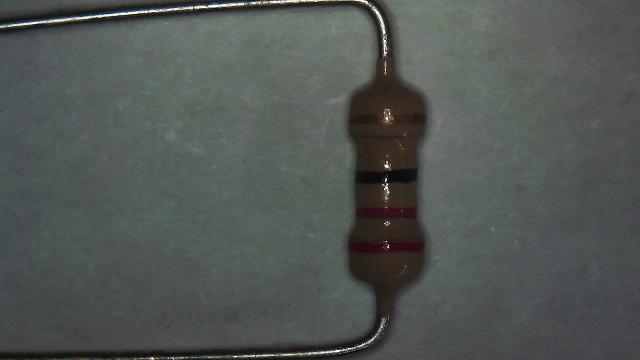black: (356, 170, 416, 183)
gold: (350, 114, 426, 124)
orange: (357, 206, 417, 219)
red: (348, 241, 424, 252)
resistor: (332, 63, 440, 304)
